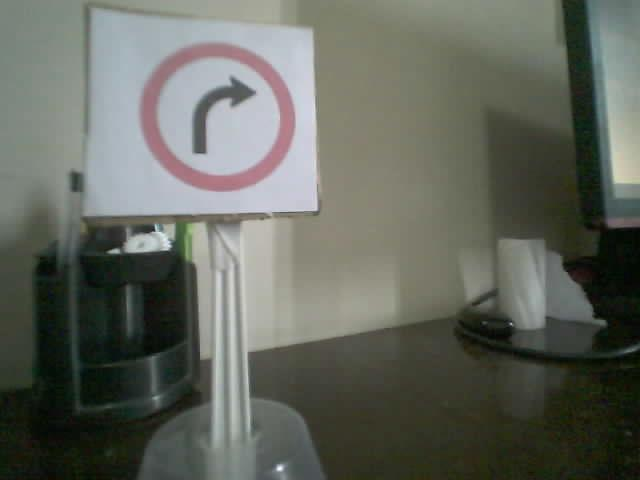R-25b_direita: (139, 40, 295, 192)
